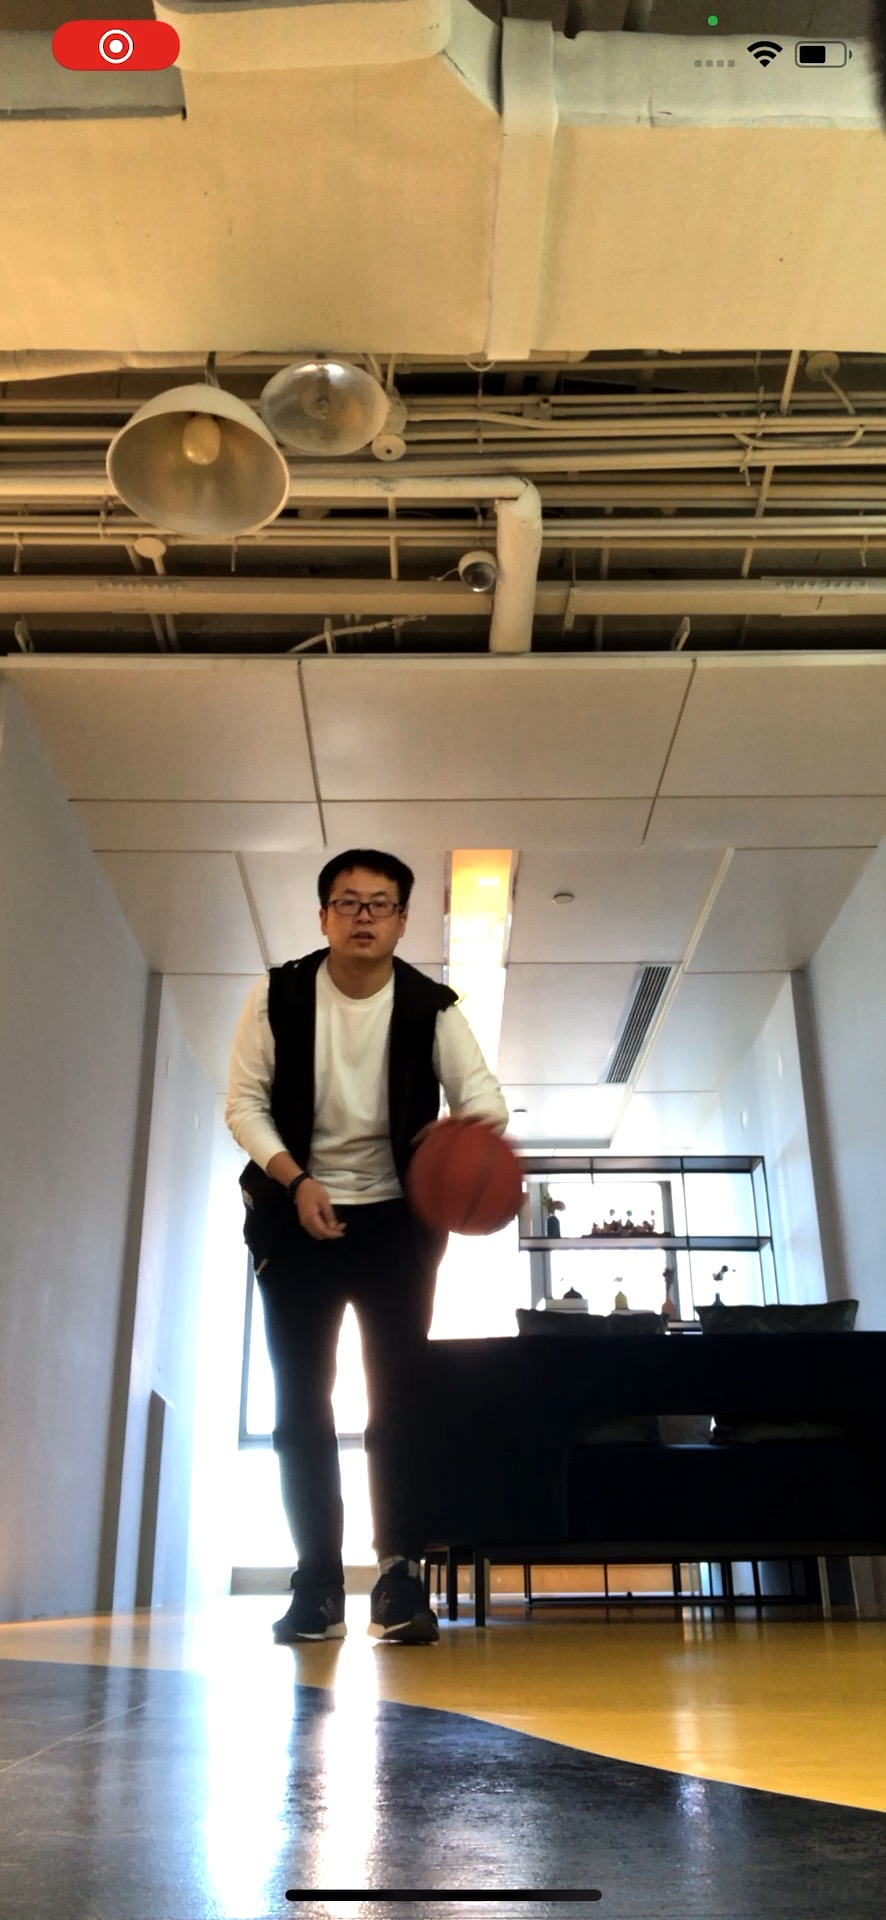ball: (406, 1120, 527, 1237)
